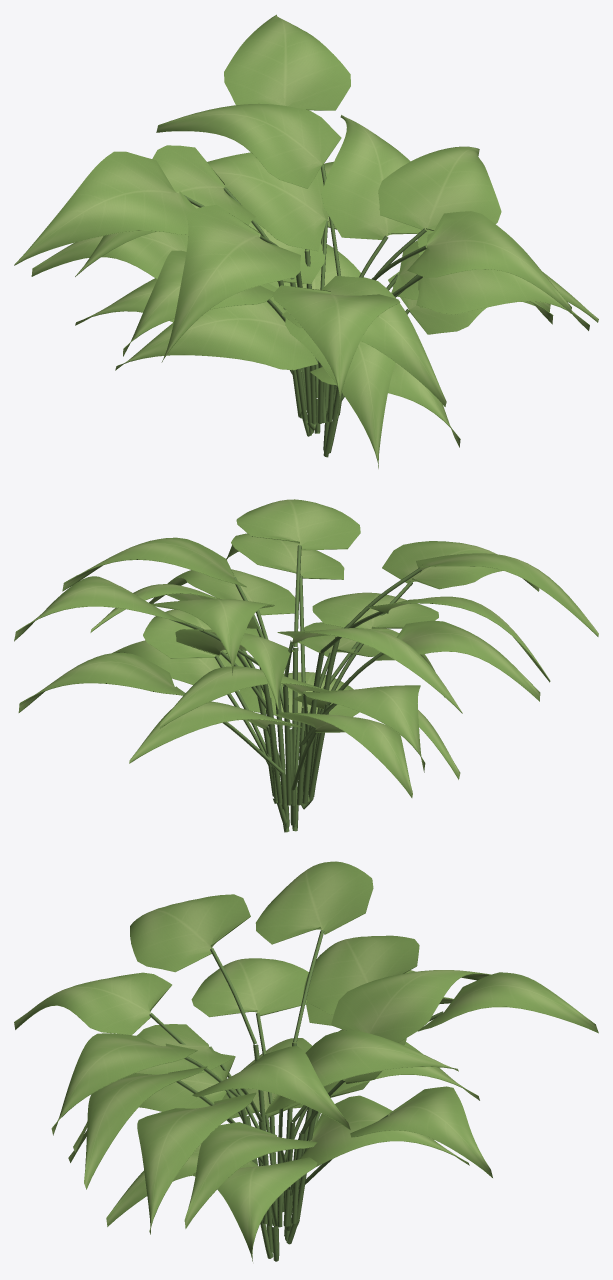
The model's file is syngonium-stage-7.glb.
3 views of the same model, one above another, from view 1: azimuth 30°, elevation 25°; view 2: azimuth 150°, elevation 25°; view 3: azimuth 270°, elevation 25° (orthographic).
Visible parts, largest first — view 1: Leaf_20, Leaf_23, Leaf_22, Leaf_19, Leaf_16, Leaf_2, Leaf_11, Leaf_14, Leaf_21, Leaf_18, PlantBranches, Leaf_13 (+12 smaller); view 2: PlantBranches, Leaf_21, Leaf_9, Leaf_12, Leaf_18, Leaf_15, Leaf_4, Leaf_16, Leaf_10, Leaf_13, Leaf_7, Leaf_19 (+13 smaller); view 3: PlantBranches, Leaf_20, Leaf_23, Leaf_19, Leaf_8, Leaf_17, Leaf_18, Leaf_15, Leaf_11, Leaf_21, Leaf_6, Leaf_9 (+10 smaller).
Boxes of the visible parts, box(x1,y1,x2,y2) form: Leaf_20: box(14, 151, 195, 265); Leaf_23: box(161, 204, 300, 362); Leaf_22: box(224, 14, 350, 110); Leaf_19: box(156, 103, 341, 188); Leaf_16: box(378, 146, 501, 230); Leaf_2: box(115, 283, 317, 370); Leaf_11: box(321, 115, 421, 239); Leaf_14: box(207, 152, 328, 251); Leaf_21: box(407, 211, 571, 313); Leaf_18: box(272, 285, 400, 403); PlantBranches: box(184, 165, 426, 457); Leaf_13: box(416, 232, 589, 330); PlantBranches: box(171, 545, 421, 832); Leaf_21: box(236, 499, 360, 550); Leaf_9: box(18, 652, 184, 712); Leaf_12: box(303, 685, 425, 772); Leaf_18: box(382, 541, 539, 591); Leaf_15: box(375, 620, 540, 701); Leaf_4: box(276, 712, 412, 797); Leaf_16: box(62, 537, 246, 591); Leaf_10: box(312, 592, 438, 629); Leaf_13: box(226, 533, 344, 579); Leaf_7: box(159, 666, 331, 728); Leaf_19: box(151, 599, 274, 675); PlantBranches: box(149, 930, 442, 1261); Leaf_20: box(255, 861, 373, 944); Leaf_23: box(130, 894, 250, 972); Leaf_19: box(331, 970, 490, 1042); Leaf_8: box(137, 1092, 256, 1234); Leaf_17: box(303, 935, 419, 1015); Leaf_18: box(14, 972, 171, 1035); Leaf_15: box(191, 958, 308, 1017); Leaf_11: box(264, 1030, 458, 1114); Leaf_21: box(51, 1033, 197, 1135); Leaf_6: box(184, 1122, 317, 1228); Leaf_9: box(350, 1086, 492, 1177).
Bounding box in the file's own units: 2.51 × 1.51 × 2.58.
2 materials, 1 textured.
